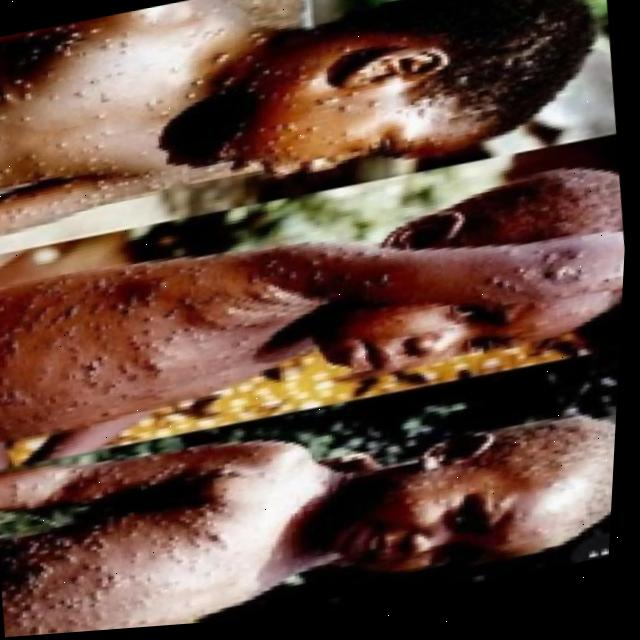Eczema: (0, 220, 607, 422), (0, 437, 249, 639), (0, 32, 186, 204), (241, 39, 461, 164), (443, 426, 596, 517)
